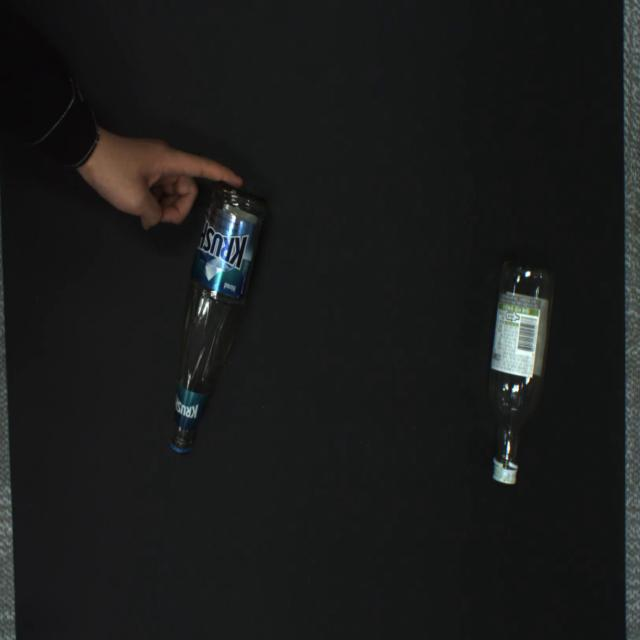beer-bottle: (170, 184, 267, 453)
soju-bottle: (489, 262, 553, 485)
